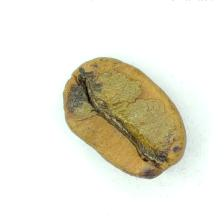NG: (71, 62, 175, 176)
